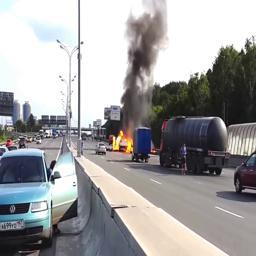fire: (113, 123, 133, 152)
